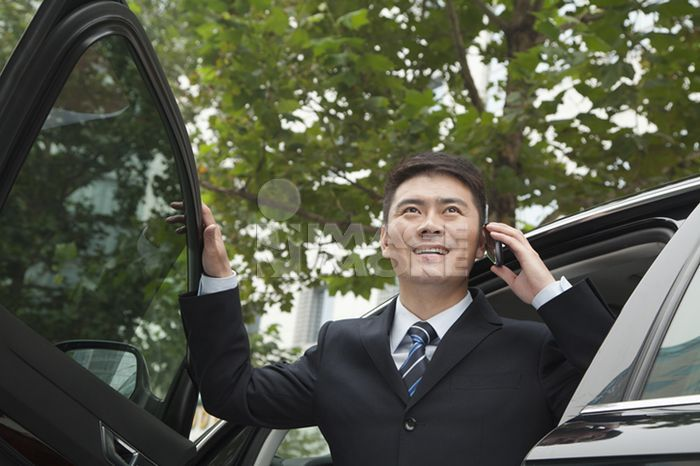phone: (476, 195, 521, 277)
talk: (396, 190, 535, 300)
